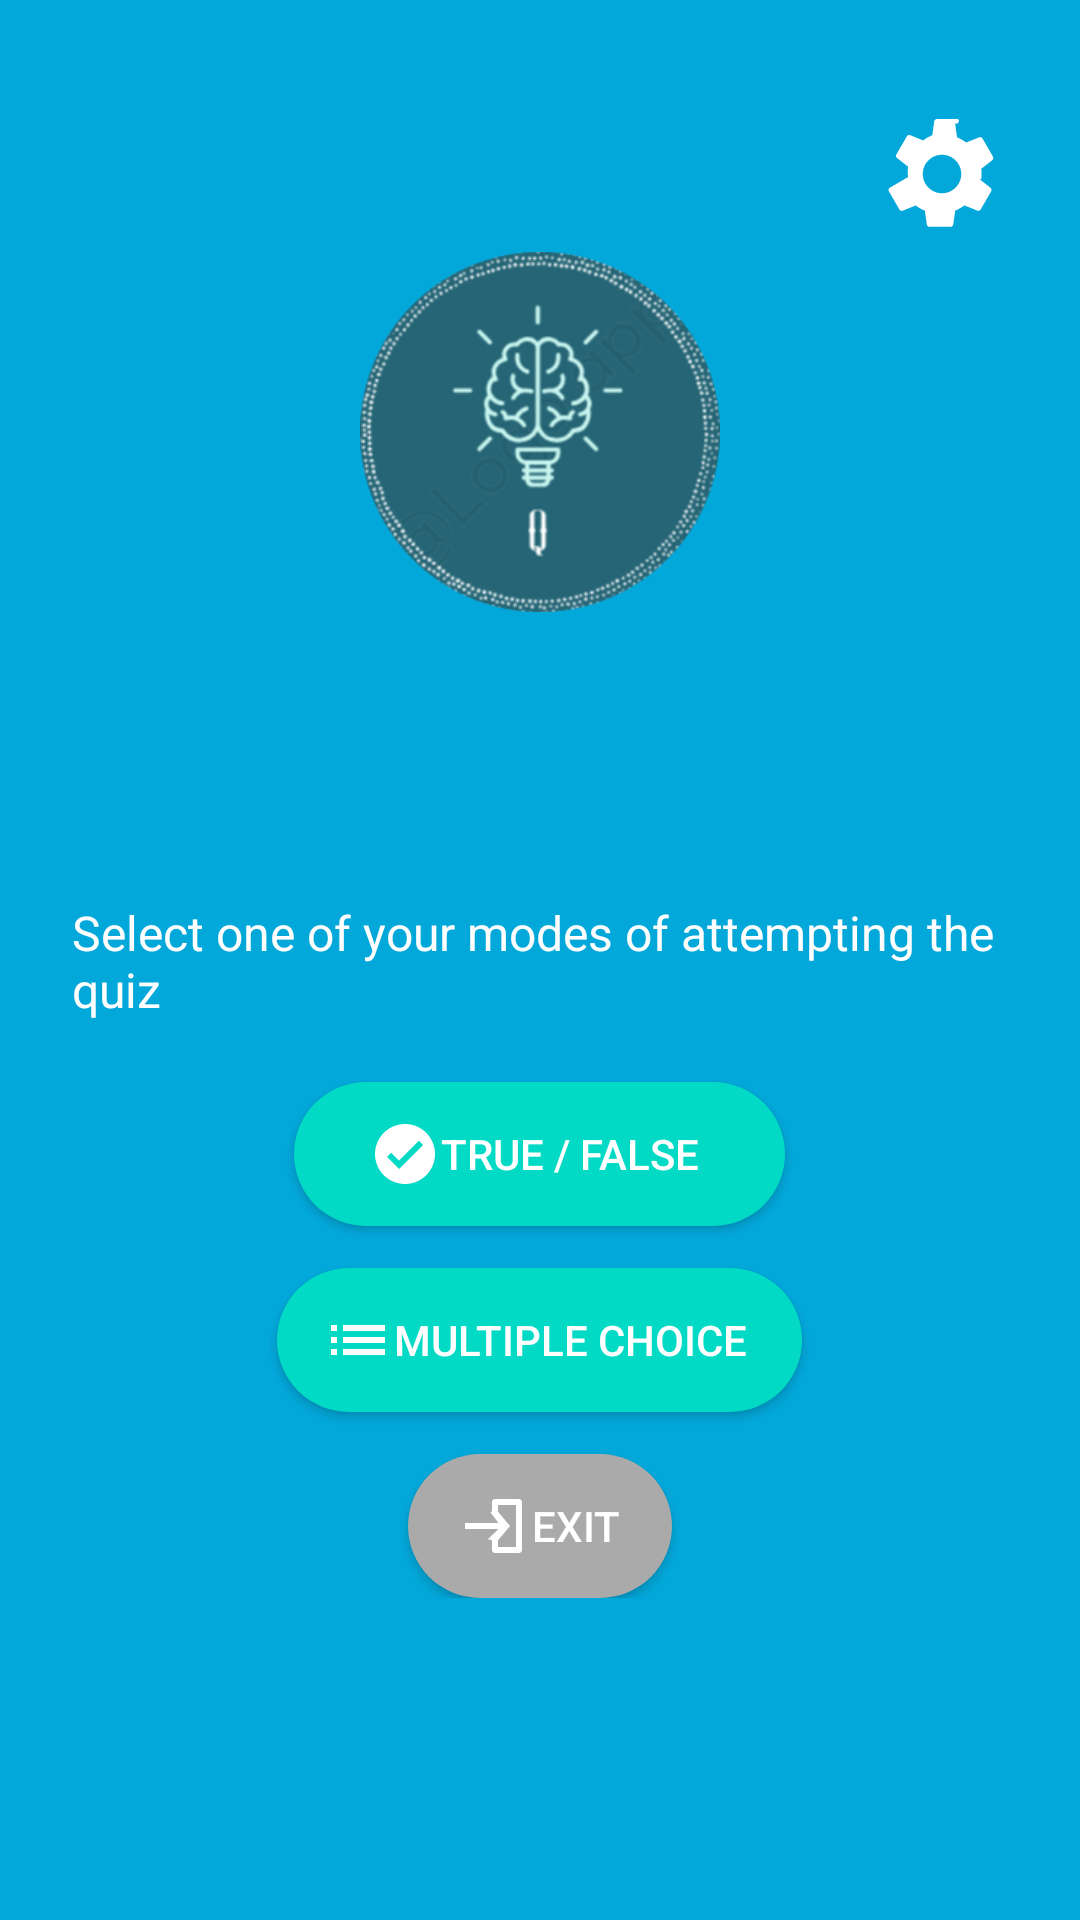

Icon bounding boxes for this 1080w x 1920h phone screenshot, format box(x1, y1, x2, y2):
Settings: box(888, 119, 994, 227)
